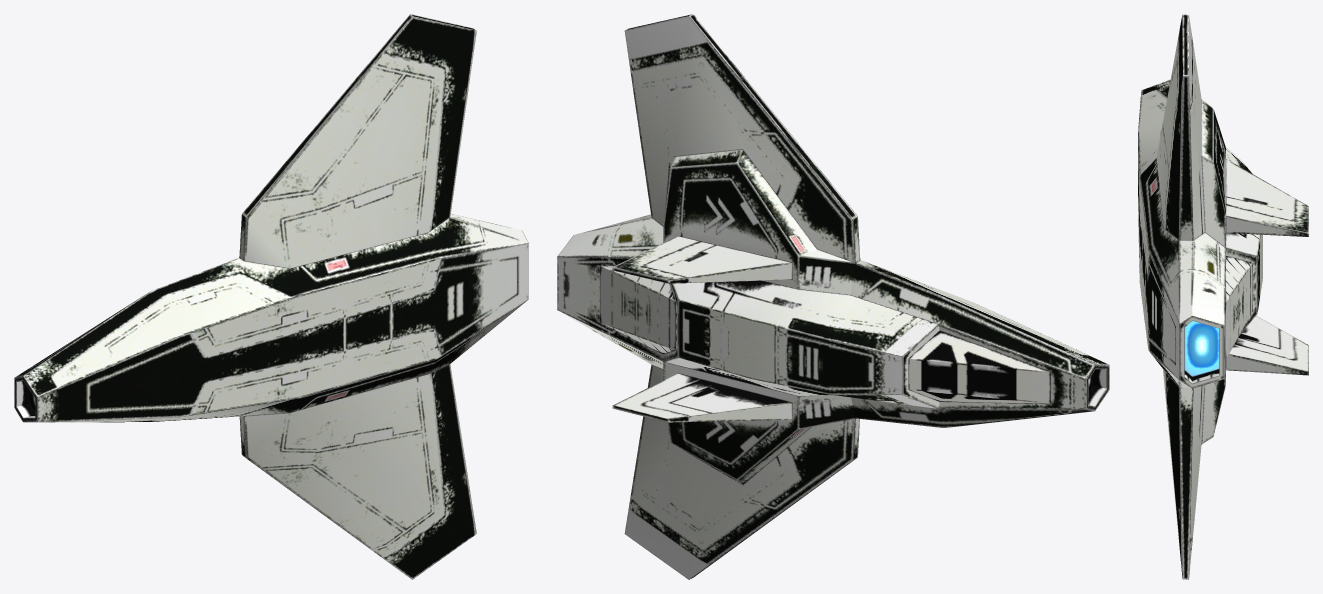
The model's file is spaceShip.FBX.
3 renders of one model, left to right at view 1: azimuth 30°, elevation 25°; view 2: azimuth 150°, elevation 25°; view 3: azimuth 270°, elevation 25°, orthographic.
Parts seen in each view (by area): view 1: space_frigate_6; view 2: space_frigate_6; view 3: space_frigate_6.
Part boxes in pixels (x1,y1,x2,y2): space_frigate_6: (14,14,528,579); space_frigate_6: (557,14,1109,579); space_frigate_6: (1138,14,1308,579).
Size of the model in its own units: 893 by 942 by 258.
